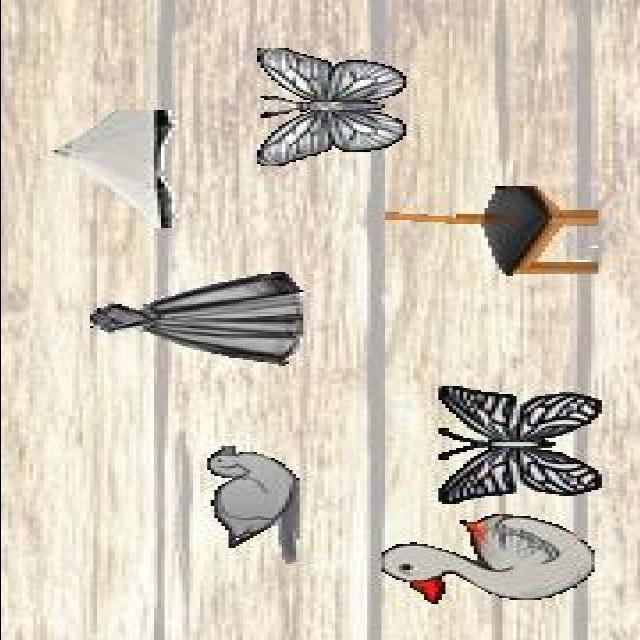Other Objects: (84, 272, 304, 367), (435, 386, 603, 505), (379, 515, 596, 604), (252, 48, 404, 168), (204, 446, 300, 564)
